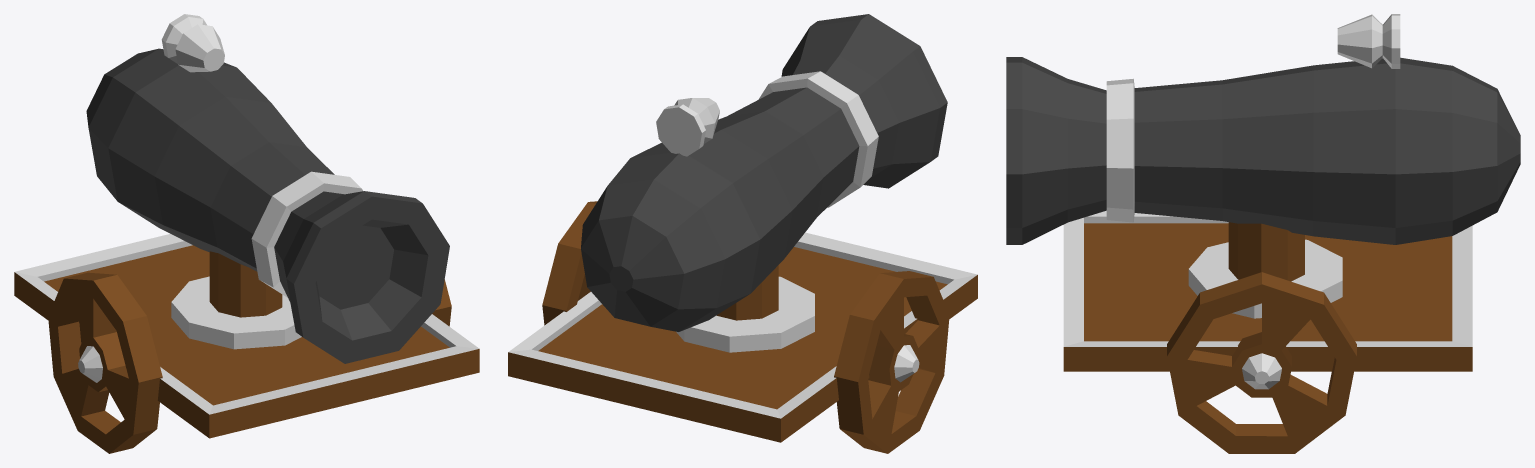
The model's file is Canhao_Nv3.glb.
3 views of the same model, side by side, from view 1: azimuth 30°, elevation 25°; view 2: azimuth 150°, elevation 25°; view 3: azimuth 270°, elevation 25° (orthographic). The views are drawn at different scales.
Parts seen in each view (by area): view 1: Turret.001, NIVEL3; view 2: Turret.001, NIVEL3; view 3: Turret.001, NIVEL3.
Part boxes in pixels (bbox=[...]): Turret.001: bbox=[86, 14, 449, 363]; NIVEL3: bbox=[14, 234, 479, 453]; Turret.001: bbox=[581, 14, 947, 352]; NIVEL3: bbox=[508, 201, 977, 453]; Turret.001: bbox=[1006, 14, 1520, 318]; NIVEL3: bbox=[1063, 210, 1472, 453].
Size of the model in its own units: 1.12 by 1.09 by 1.41.
